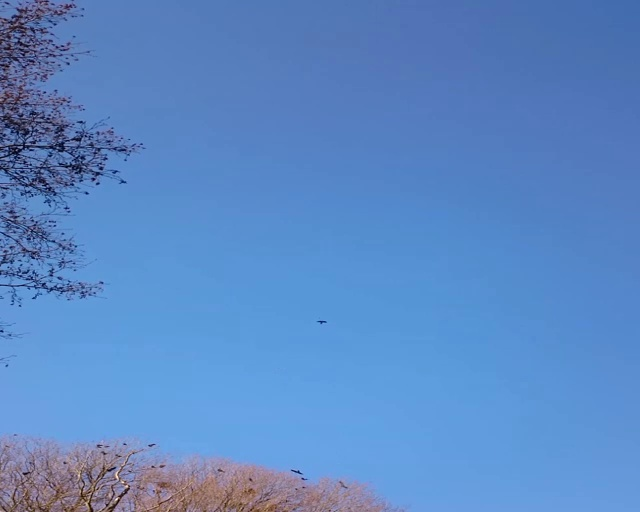BIRD: (316, 318, 328, 325)
